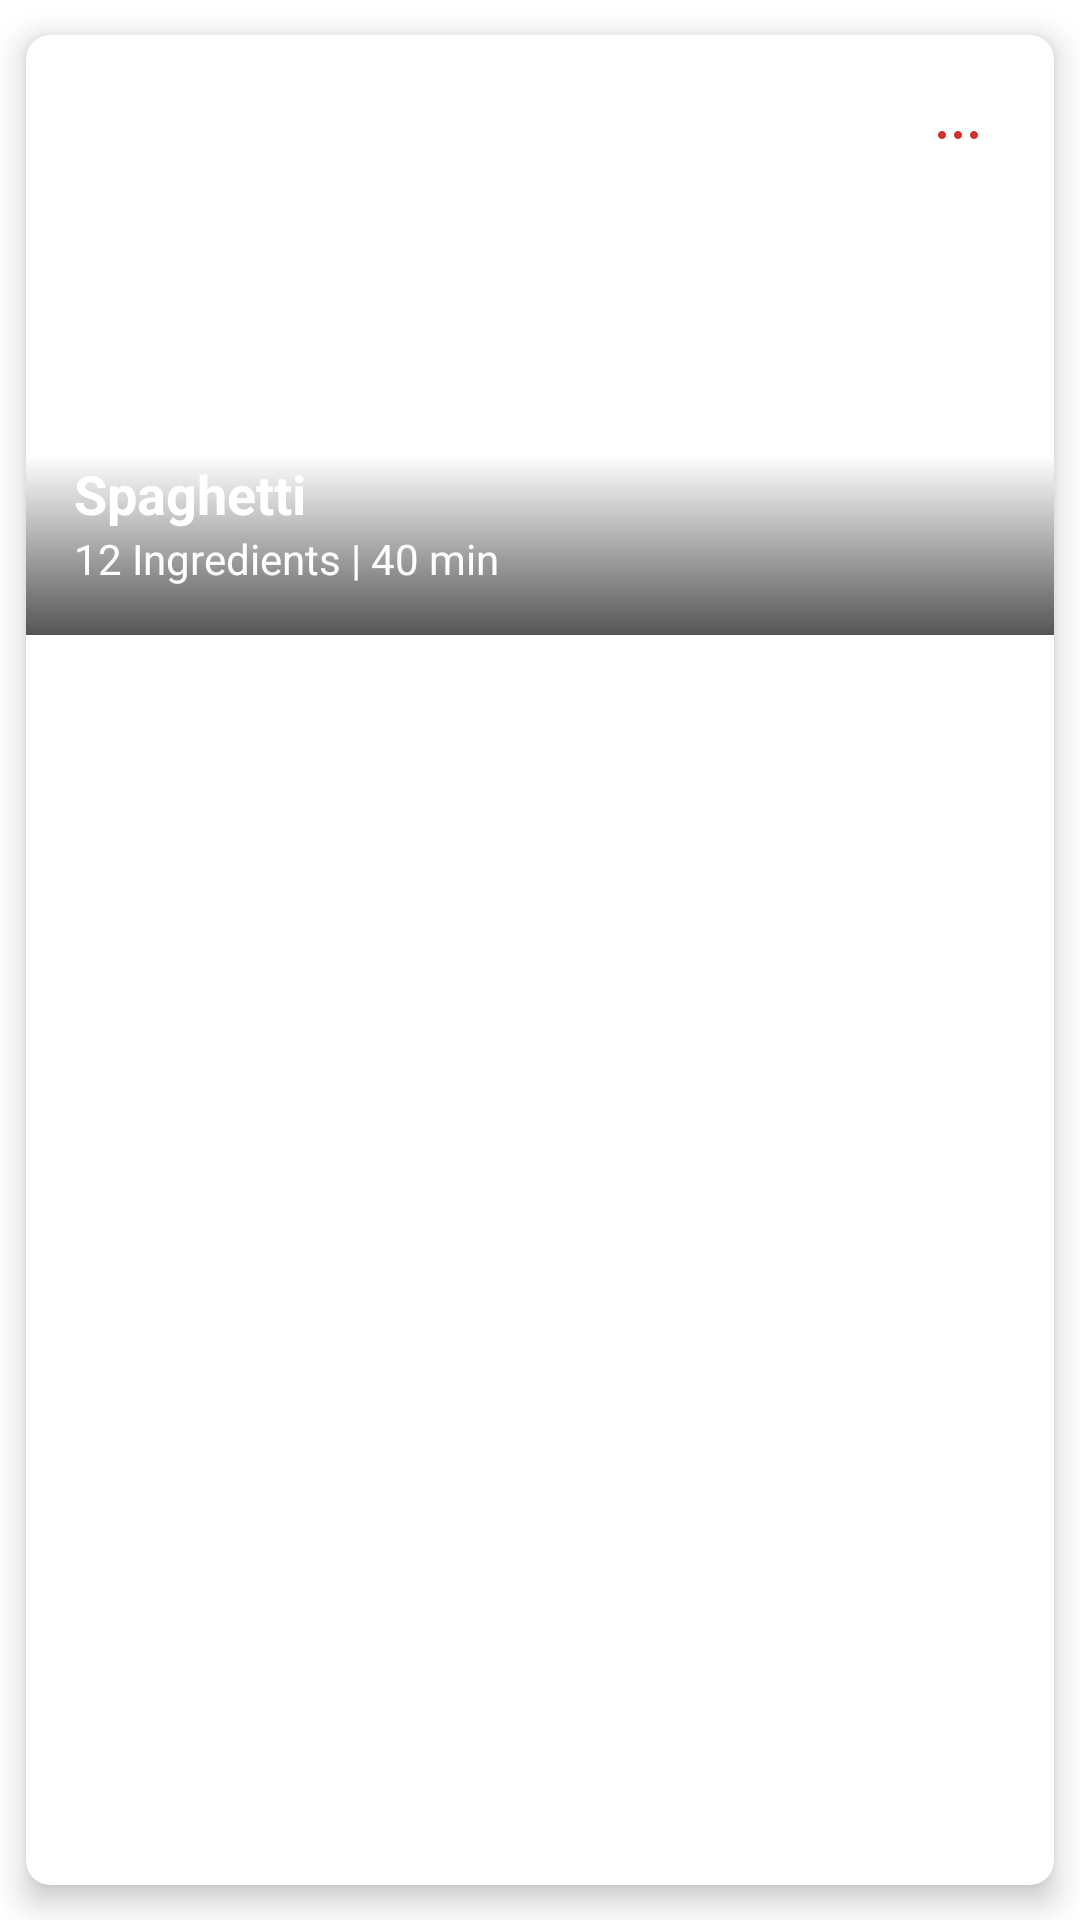

Point at icon controls on the screen. Image size 1080 × 1920, points as (x,y).
menu: (958,135)
